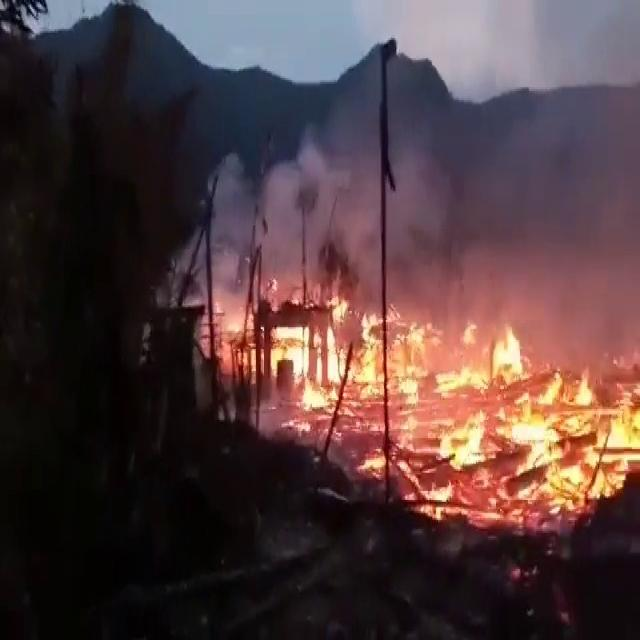Fire: (257, 296, 640, 502)
